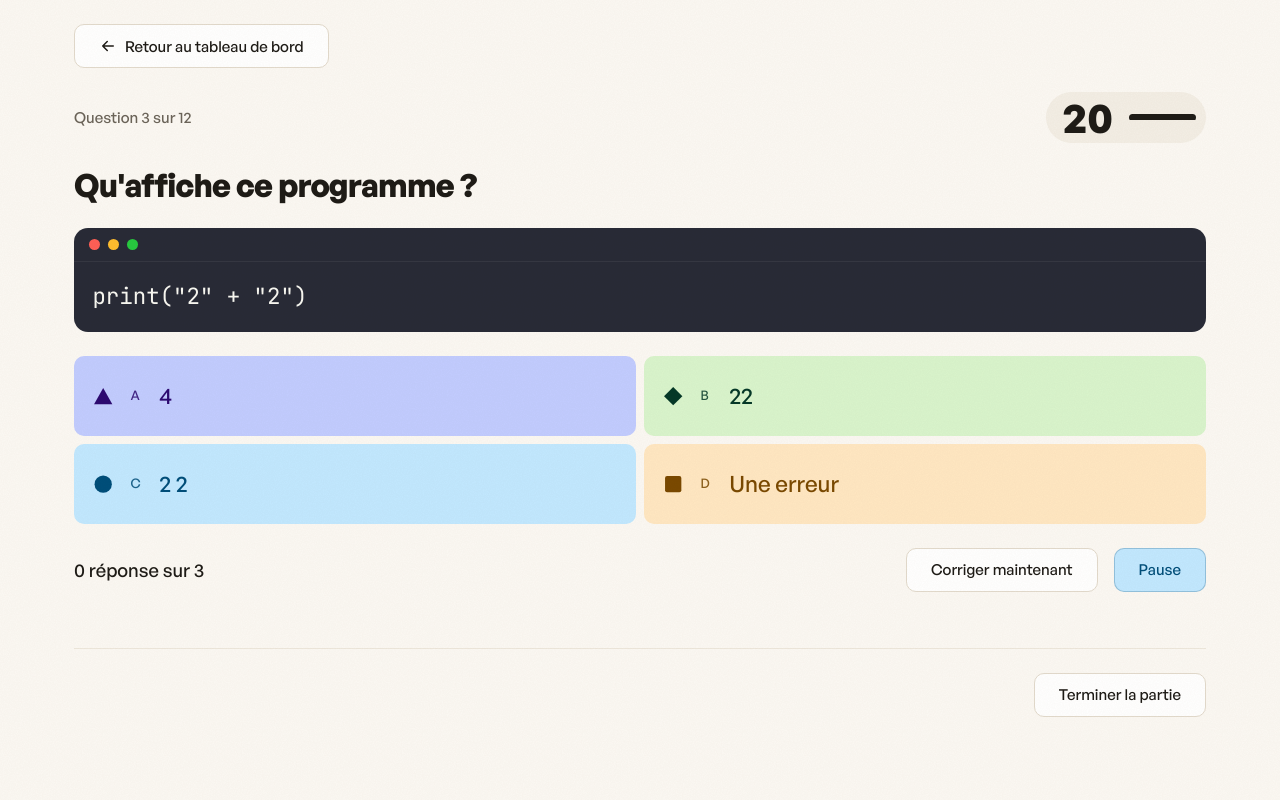
Test: QuizProf › met en pause à côté de « Corriger maintenant », d une autre couleur
Step 1. Click the button "Pause" → {"x": 1160, "y": 570}, box [1114, 548, 1206, 592]
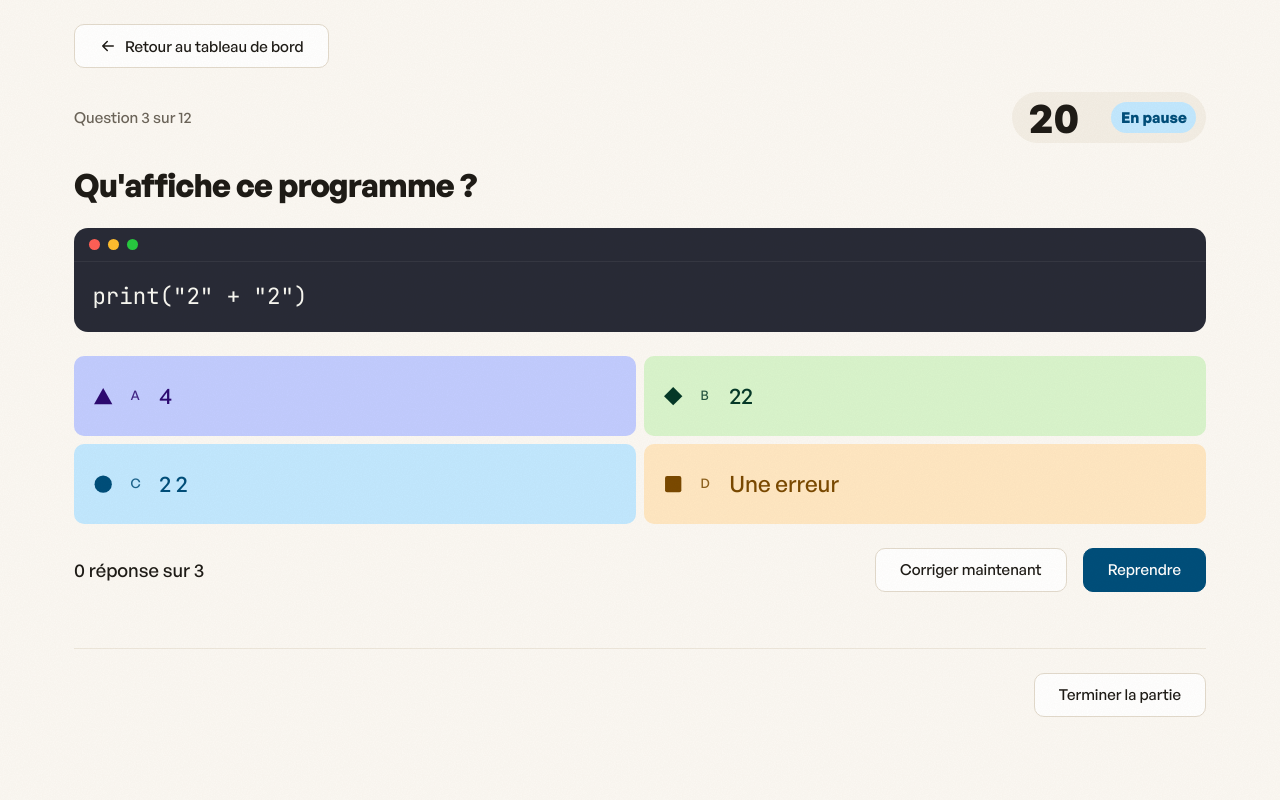
Check: the text "En pause" is shown, box [1111, 102, 1196, 133]
